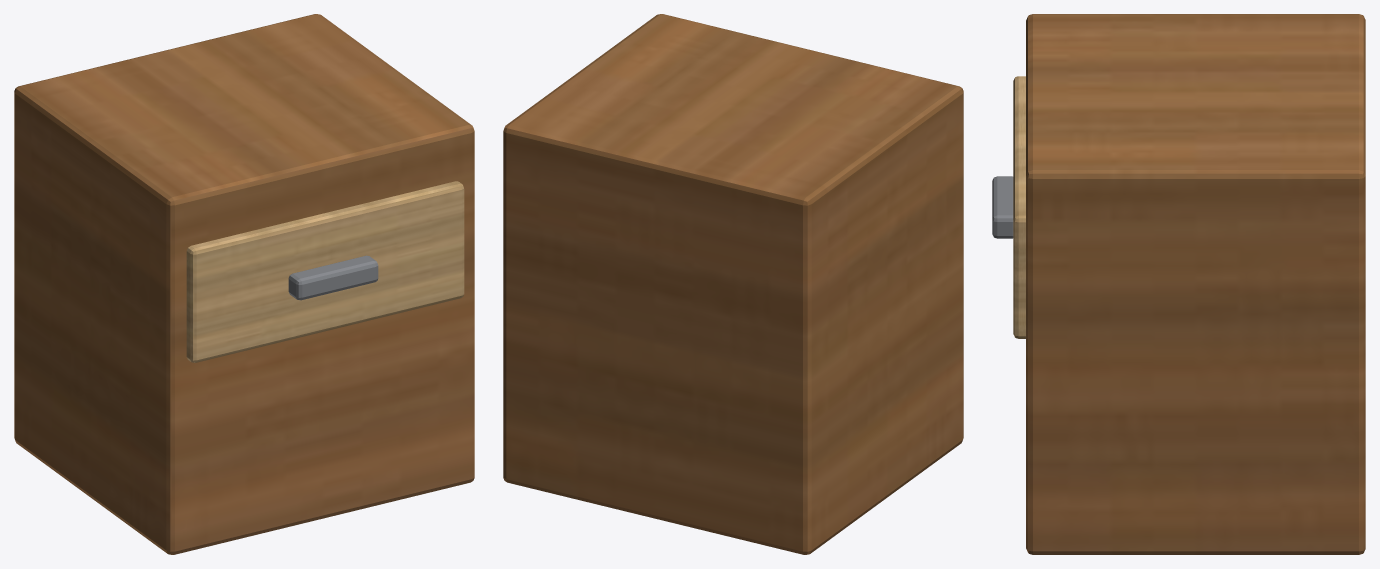
The model's file is nightstand.glb.
3 views of the same model, side by side, from view 1: azimuth 30°, elevation 25°; view 2: azimuth 150°, elevation 25°; view 3: azimuth 270°, elevation 25° (orthographic). The views are drawn at different scales.
Visible parts, largest first — view 1: body.002, part_drawer__nightstand; view 2: body.002; view 3: body.002, part_drawer__nightstand.
Boxes of the visible parts, x1=… form: body.002: x1=14, y1=14, x2=474, y2=554; part_drawer__nightstand: x1=186, y1=181, x2=464, y2=362; body.002: x1=503, y1=14, x2=963, y2=554; body.002: x1=1026, y1=14, x2=1365, y2=554; part_drawer__nightstand: x1=992, y1=76, x2=1025, y2=338.
Size of the model in its own units: 0.45 by 0.5 by 0.44.
Materials: 4 (3 with a texture image).
